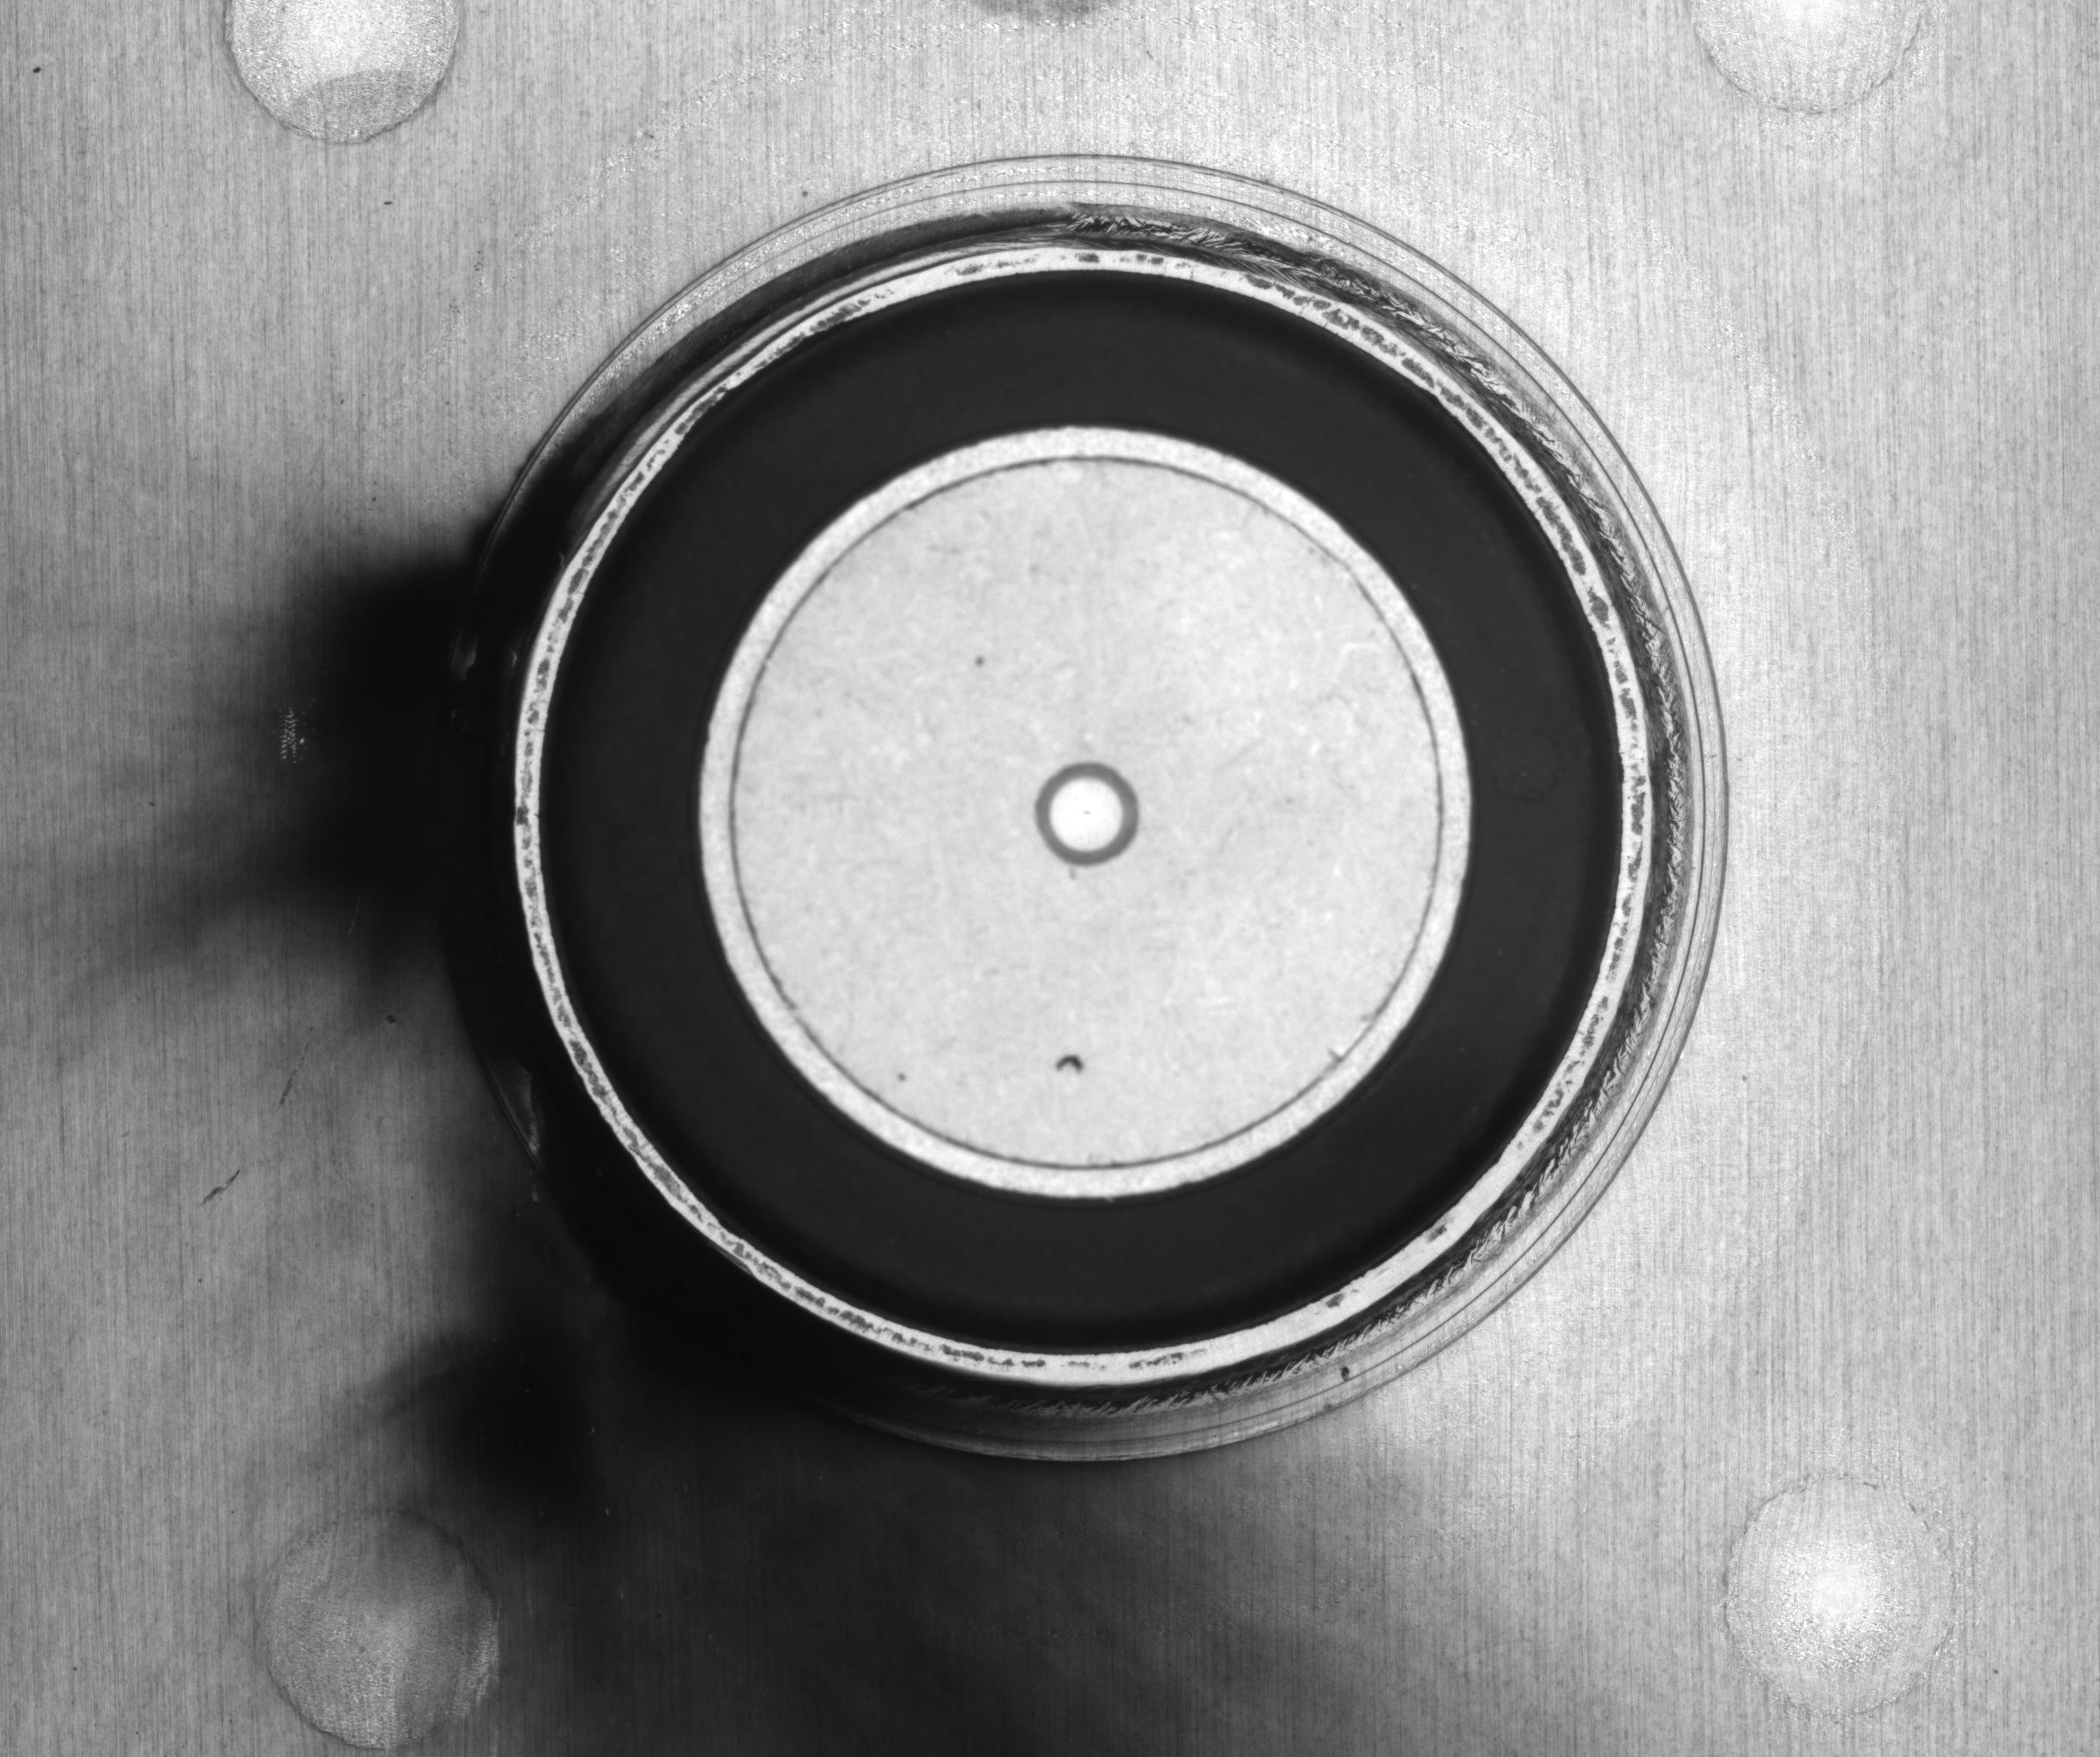burn: (220, 537, 1465, 1668)
